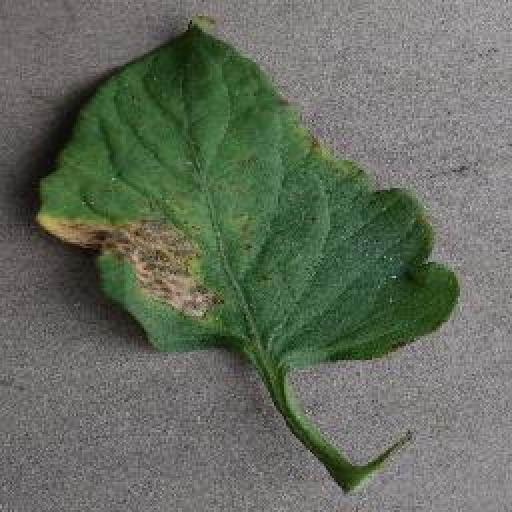Bacterial Spot: (33, 14, 464, 370)
